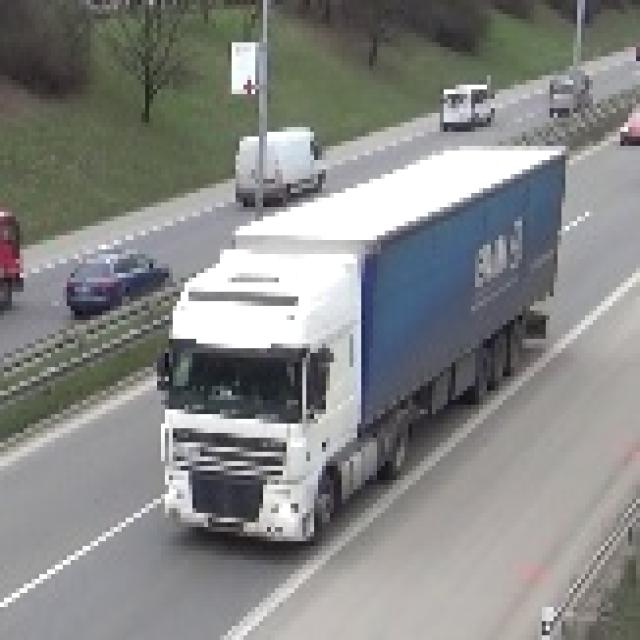TRUCK: (161, 152, 566, 553), (235, 131, 329, 203)
